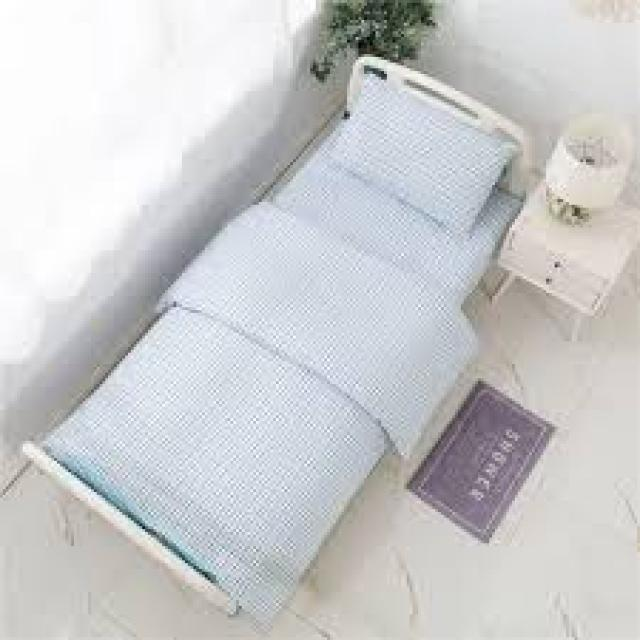bed: (20, 51, 529, 632)
